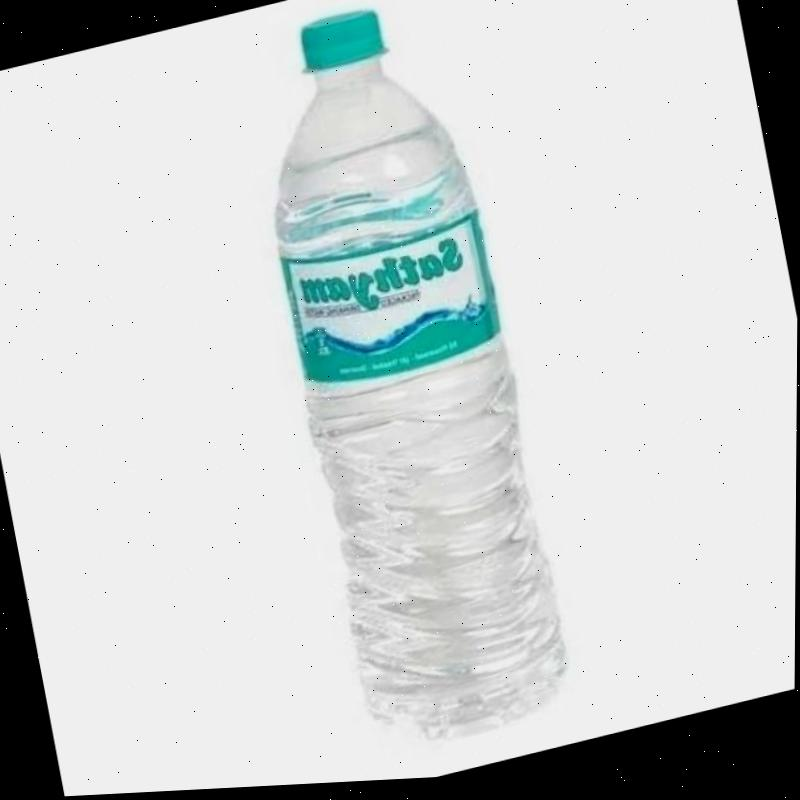botella: (230, 0, 585, 771)
